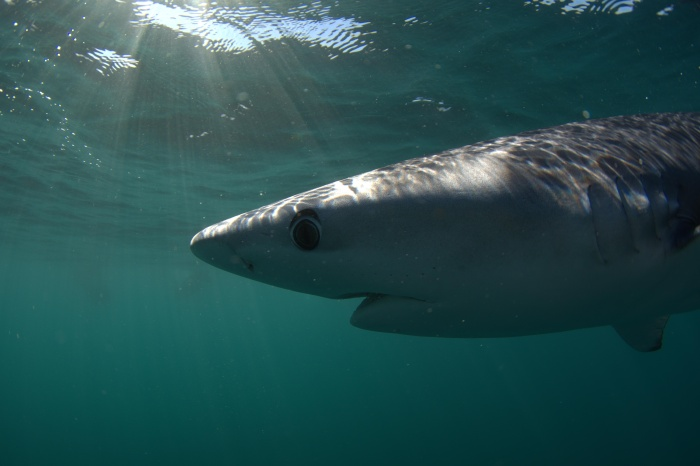Azul: (171, 85, 700, 373)
